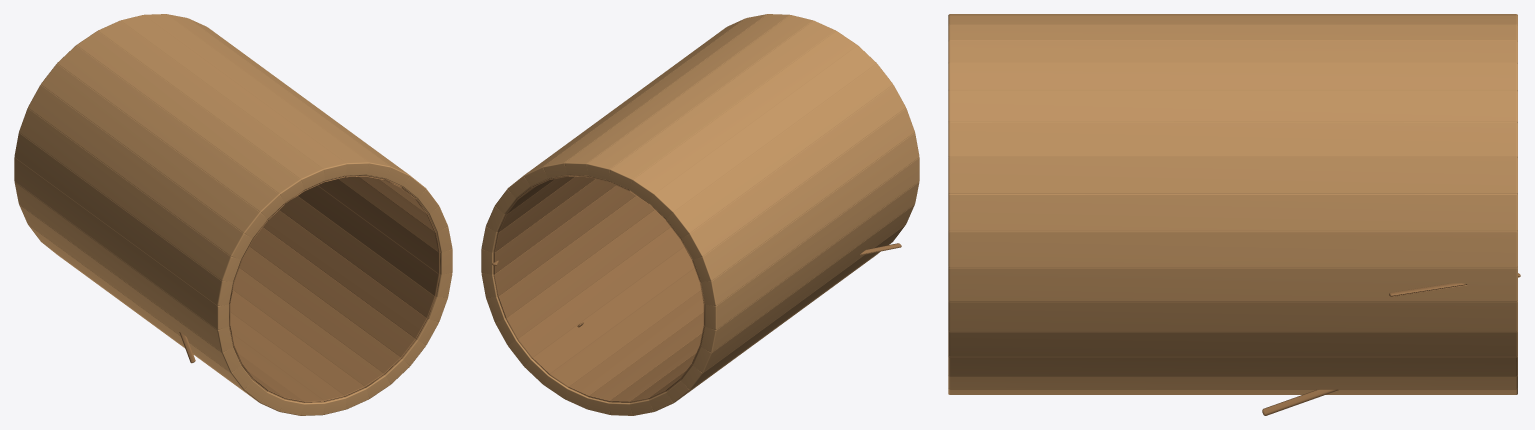
The model's file is roll_9.glb.
The picture shows the model from 3 angles, left to right: view 1: azimuth 30°, elevation 25°; view 2: azimuth 150°, elevation 25°; view 3: azimuth 270°, elevation 25°; orthographic projection. The views are drawn at different scales.
Visible parts, largest first — view 1: roll_9.001; view 2: roll_9.001; view 3: roll_9.001.
Part boxes in pixels (<box>): roll_9.001: <box>14,14,452,415</box>; roll_9.001: <box>481,14,919,415</box>; roll_9.001: <box>948,14,1520,415</box>.
Bounding box in the file's own units: 6.54 × 6.34 × 9.04.
